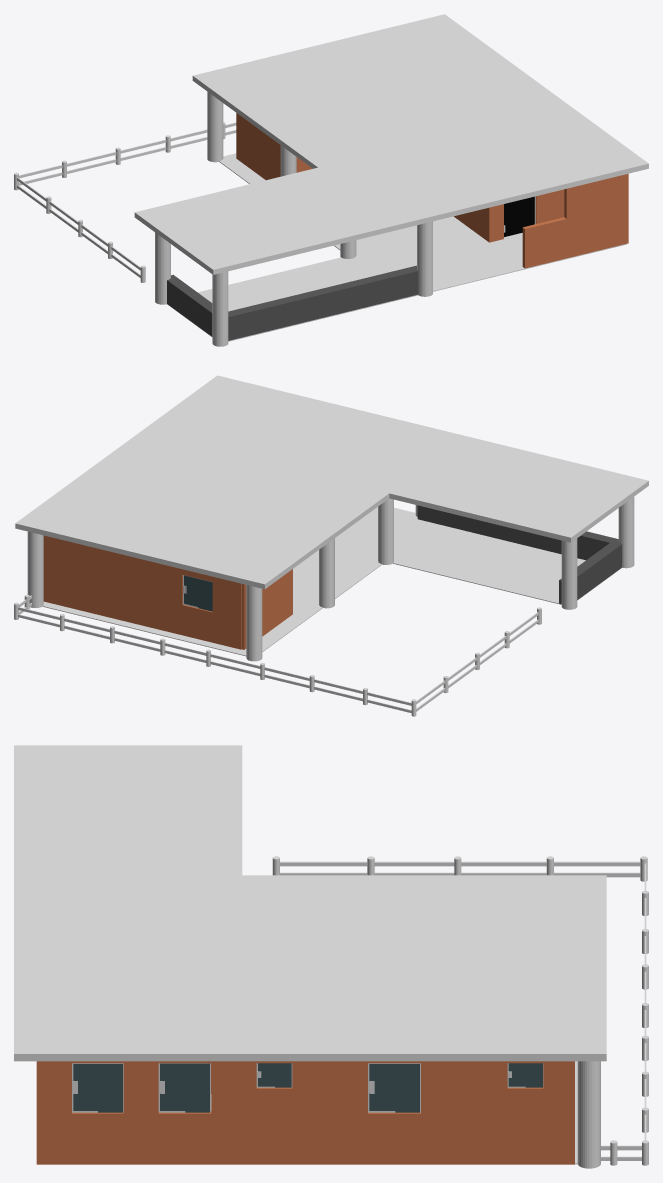
Rendered from casafinalizada.fbx.
The picture shows the model from 3 angles, top to bottom: view 1: azimuth 30°, elevation 25°; view 2: azimuth 150°, elevation 25°; view 3: azimuth 270°, elevation 25°; orthographic projection. The views are drawn at different scales.
Parts seen in each view (by area): view 1: Cube.106, Cube, Cube.000, Cube.001, Cube.003, Cube.011, Cylinder.015, Cylinder.018, Cylinder.019, Cube.087, Cylinder.016, Cube.021 (+5 smaller); view 2: Cube.106, Cube, Cube.002, Cube.001, Cube.003, Cube.011, Cube.020, Cube.107, Cylinder.019, Cylinder.021, Cylinder.016, Cylinder.020 (+2 smaller); view 3: Cube.106, Cube.004, Cylinder.021, Cube.017, Cube.006, Cube.042, Cube.034, Cube.050, Cube.035, Cube.043, Cube.051, Cube.000 (+2 smaller).
Part boxes in pixels (left/top/right/bottom): Cube.106: left=134, top=14, right=648, bottom=274; Cube: left=167, top=153, right=626, bottom=341; Cube.000: left=522, top=173, right=628, bottom=268; Cube.001: left=228, top=265, right=417, bottom=340; Cube.003: left=236, top=113, right=280, bottom=180; Cube.011: left=167, top=274, right=212, bottom=336; Cylinder.015: left=212, top=271, right=228, bottom=346; Cylinder.018: left=417, top=221, right=432, bottom=296; Cylinder.019: left=207, top=92, right=223, bottom=162; Cube.087: left=504, top=196, right=534, bottom=236; Cylinder.016: left=155, top=232, right=170, bottom=304; Cube.021: left=535, top=189, right=564, bottom=223; Cube.106: left=15, top=375, right=648, bottom=589; Cube: left=42, top=507, right=621, bottom=656; Cube.002: left=43, top=535, right=241, bottom=649; Cube.001: left=417, top=505, right=622, bottom=568; Cube.003: left=242, top=569, right=292, bottom=649; Cube.011: left=559, top=542, right=621, bottom=603; Cube.020: left=18, top=607, right=411, bottom=705; Cube.107: left=18, top=614, right=411, bottom=712; Cylinder.019: left=246, top=585, right=262, bottom=661; Cylinder.021: left=27, top=531, right=43, bottom=607; Cylinder.016: left=561, top=538, right=577, bottom=609; Cylinder.020: left=319, top=538, right=334, bottom=608; Cube.106: left=14, top=745, right=606, bottom=1061; Cube.004: left=44, top=1061, right=567, bottom=1164; Cylinder.021: left=577, top=1061, right=600, bottom=1168; Cube.017: left=279, top=861, right=640, bottom=866; Cube.006: left=279, top=872, right=640, bottom=877; Cube.042: left=185, top=1063, right=209, bottom=1112; Cube.034: left=395, top=1064, right=419, bottom=1112; Cube.050: left=98, top=1064, right=122, bottom=1112; Cube.035: left=369, top=1064, right=395, bottom=1110; Cube.043: left=160, top=1063, right=185, bottom=1110; Cube.051: left=73, top=1064, right=97, bottom=1110; Cube.000: left=36, top=1061, right=43, bottom=1164.
Size of what is drawn, in the model's own units: 4185 by 763 by 3640.
